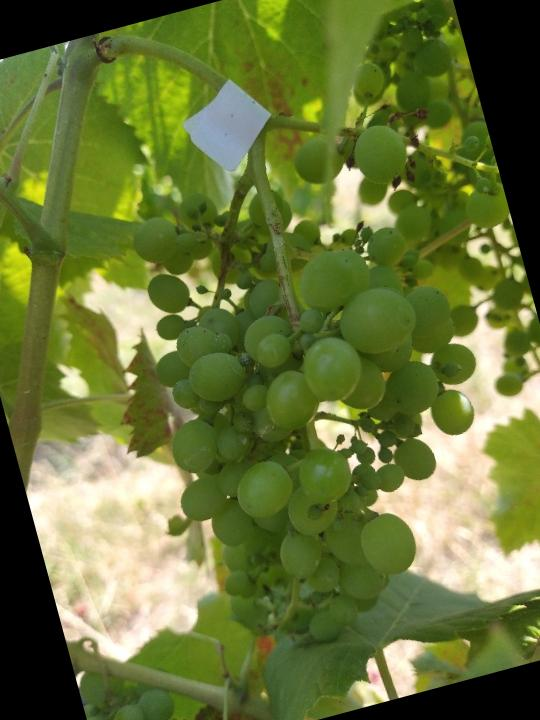grape: (72, 50, 540, 676)
